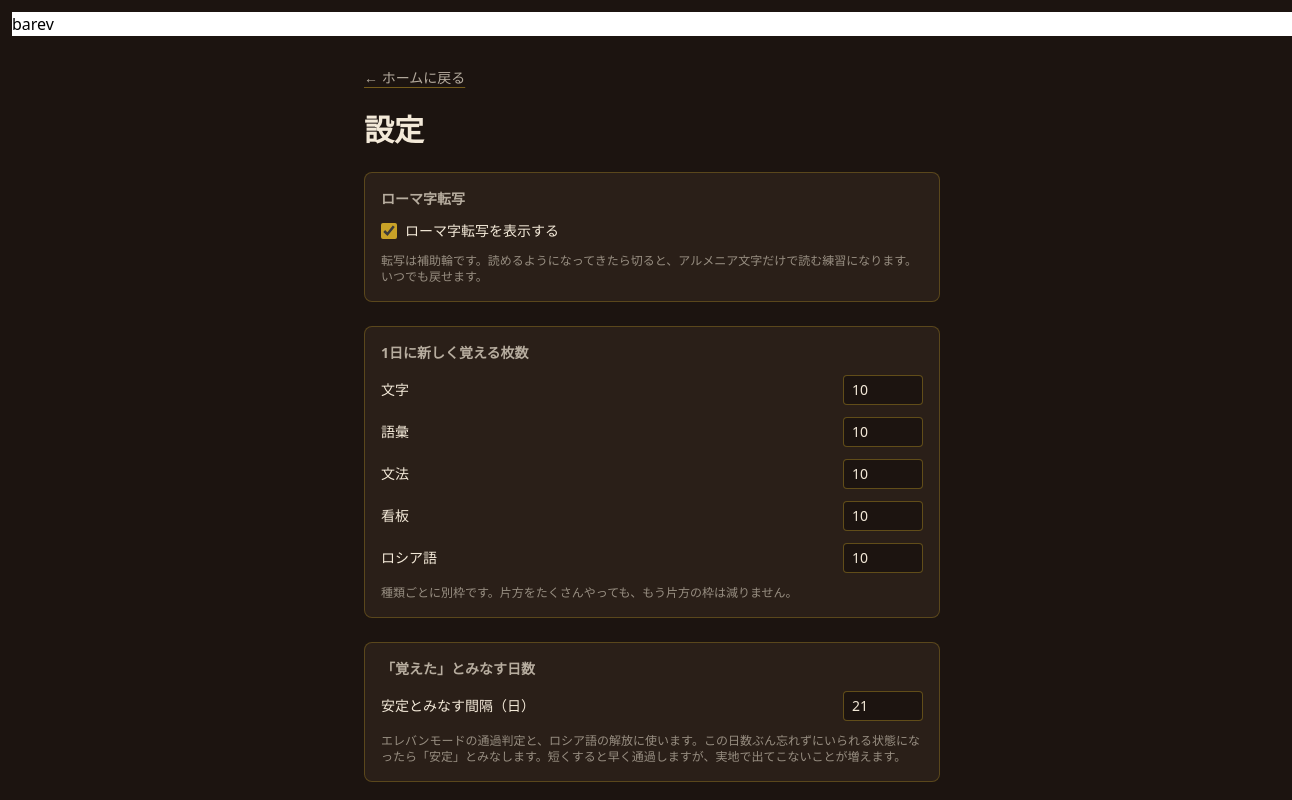
Transliteration（転写の表示部品） › renders the transliteration by default and hides it once switched off
expect the text "barev" is shown: met, box [12,13,54,35]
Click the checkbox labelled "ローマ字転写を表示する" at [389, 231], box [381,223,397,239]
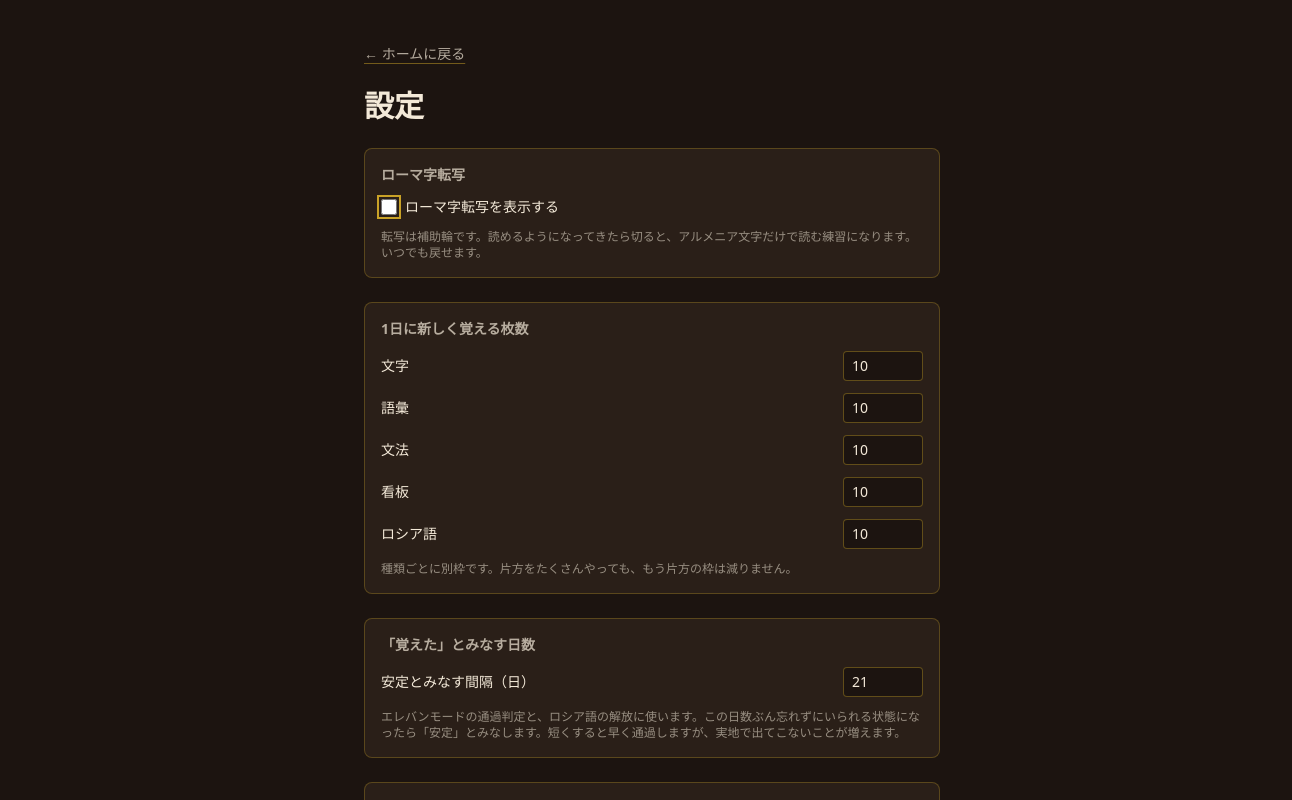
expect the text "barev" is gone: met
